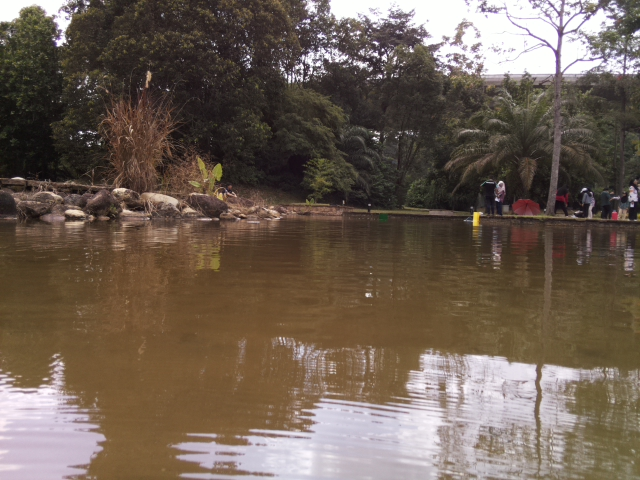obstacle: (378, 212, 388, 221)
